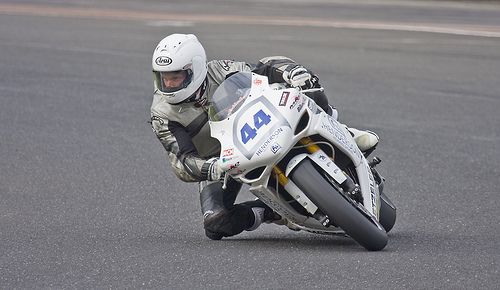helmet: (150, 35, 202, 98)
